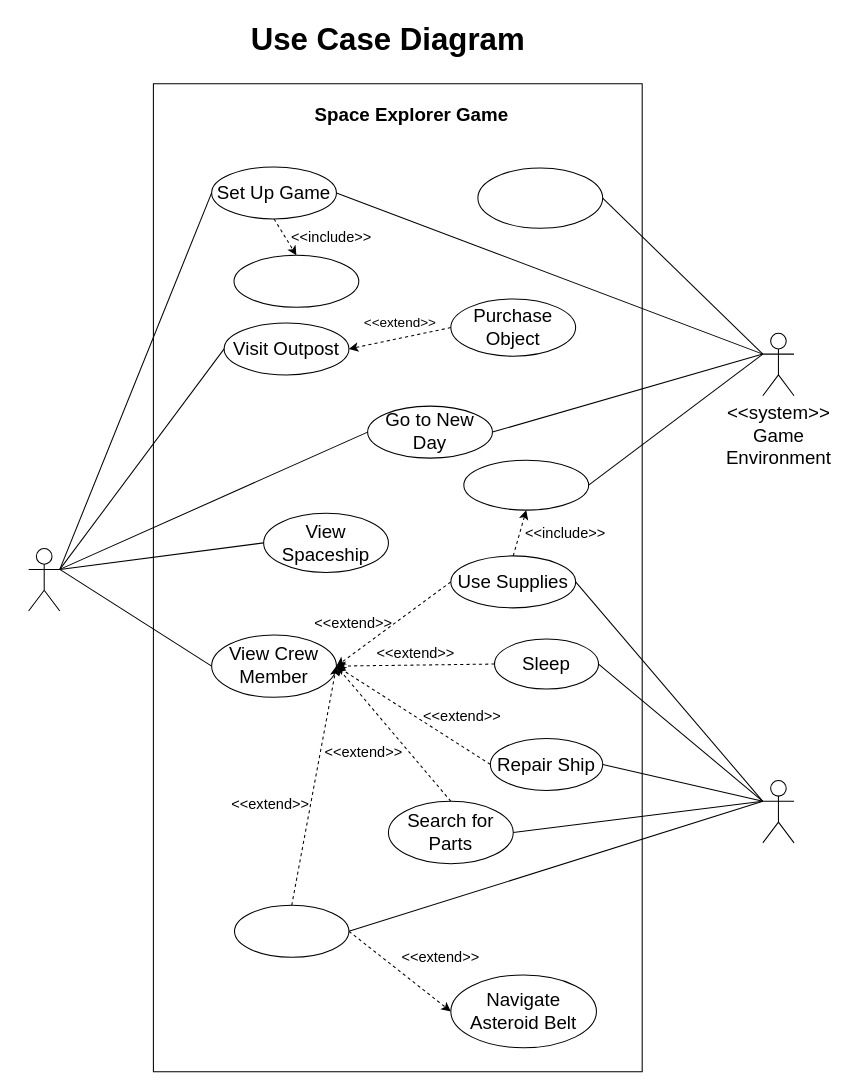
The diagram is 849 pixels wide and 1090 high, and some of its shapes have lost their labels. The shapes that lost their labels are listed below. From the top down, each one's box as (x1, y1, x2, y2) in pixels, then its label:
(477, 167, 603, 228): Infect Crew Member
(233, 254, 359, 307): Create Crew
(463, 459, 589, 510): Remove Item
(28, 548, 60, 611): Player
(762, 779, 794, 843): Crew Member
(233, 904, 349, 957): Pilot Ship
